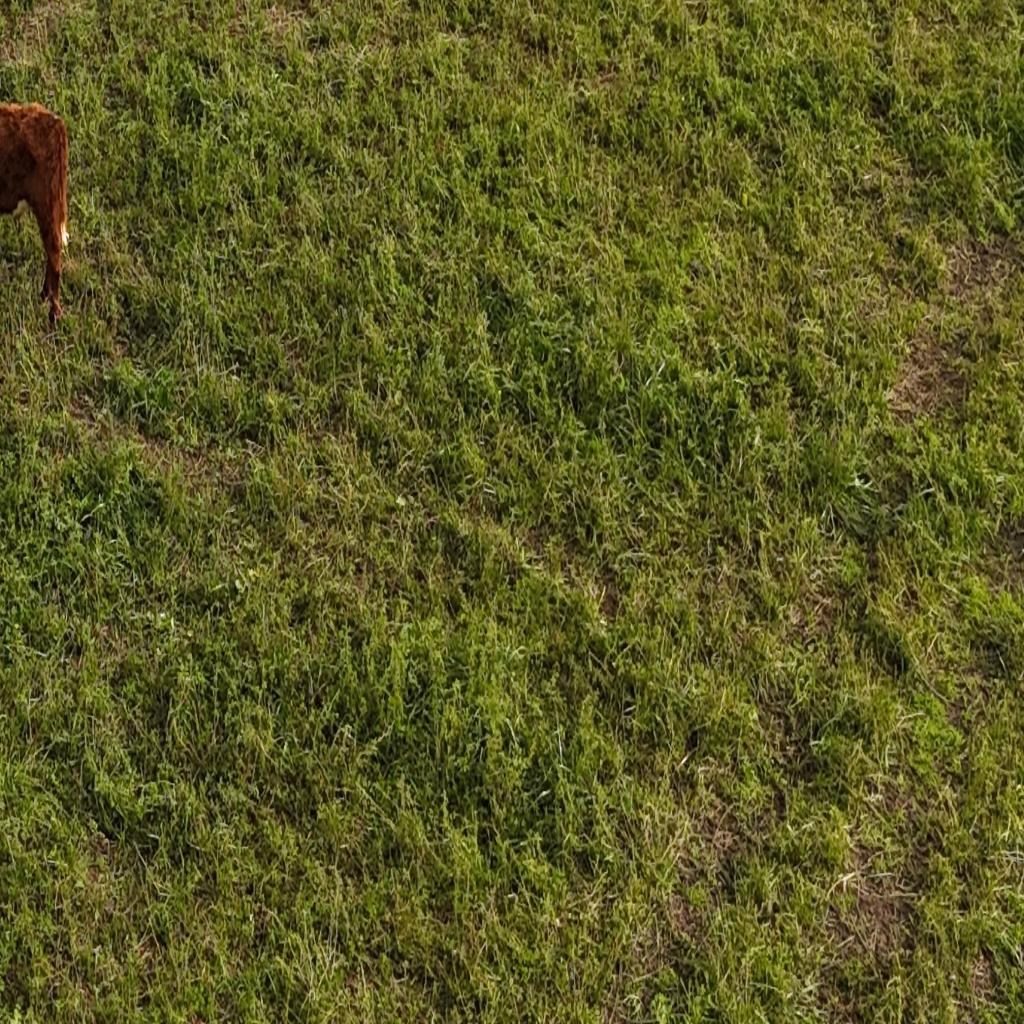cow: (0, 94, 76, 331)
